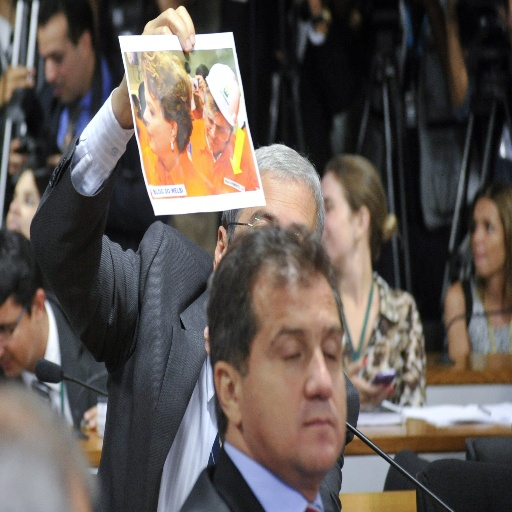hand: (139, 3, 194, 52), (343, 354, 393, 405), (0, 62, 35, 105), (194, 73, 207, 103), (82, 403, 97, 427), (202, 325, 211, 353), (185, 73, 192, 86)
